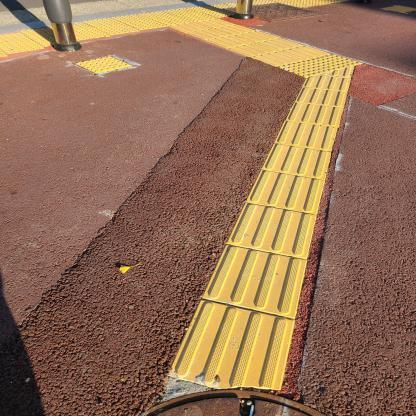podotacti: (0, 0, 362, 396), (376, 1, 415, 18)
